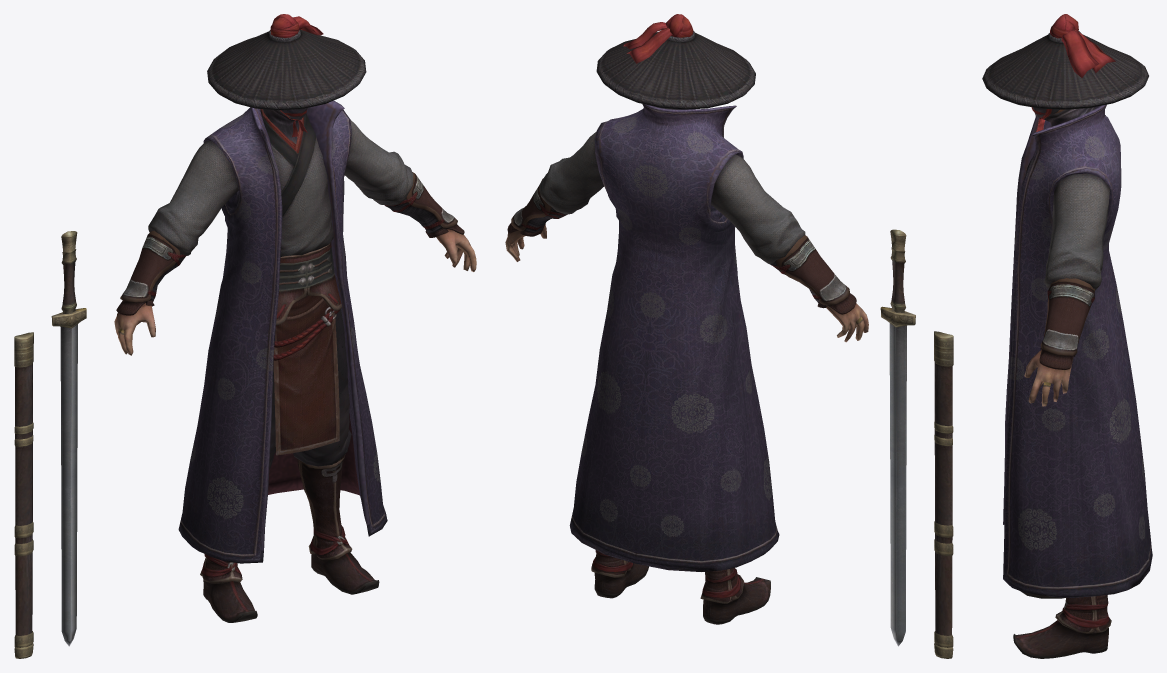
3 renders of one model, left to right at view 1: azimuth 30°, elevation 25°; view 2: azimuth 150°, elevation 25°; view 3: azimuth 270°, elevation 25°, orthographic. The views are drawn at different scales.
Visible parts, largest first — view 1: 设计吧sky004; view 2: 设计吧sky004; view 3: 设计吧sky004.
Boxes of the visible parts, left/top/right/bottom form: 设计吧sky004: left=14, top=14, right=476, bottom=658; 设计吧sky004: left=505, top=14, right=953, bottom=658; 设计吧sky004: left=982, top=14, right=1152, bottom=658.
Size of what is drawn, in the model's own units: 64.21 by 79.21 by 20.23.
2 materials, 2 textured.
